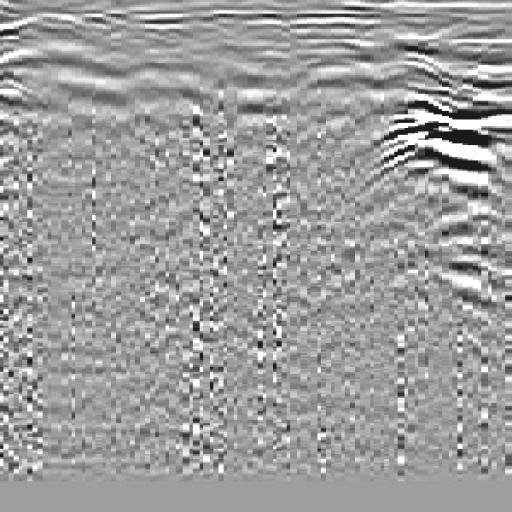metalic: (361, 41, 512, 224)
